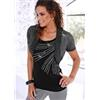t-shirt: (28, 25, 74, 91)
